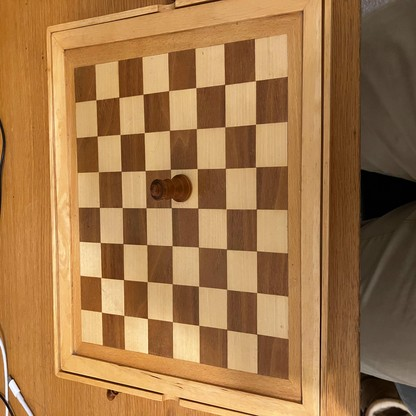queen_black: (152, 174, 192, 202)
